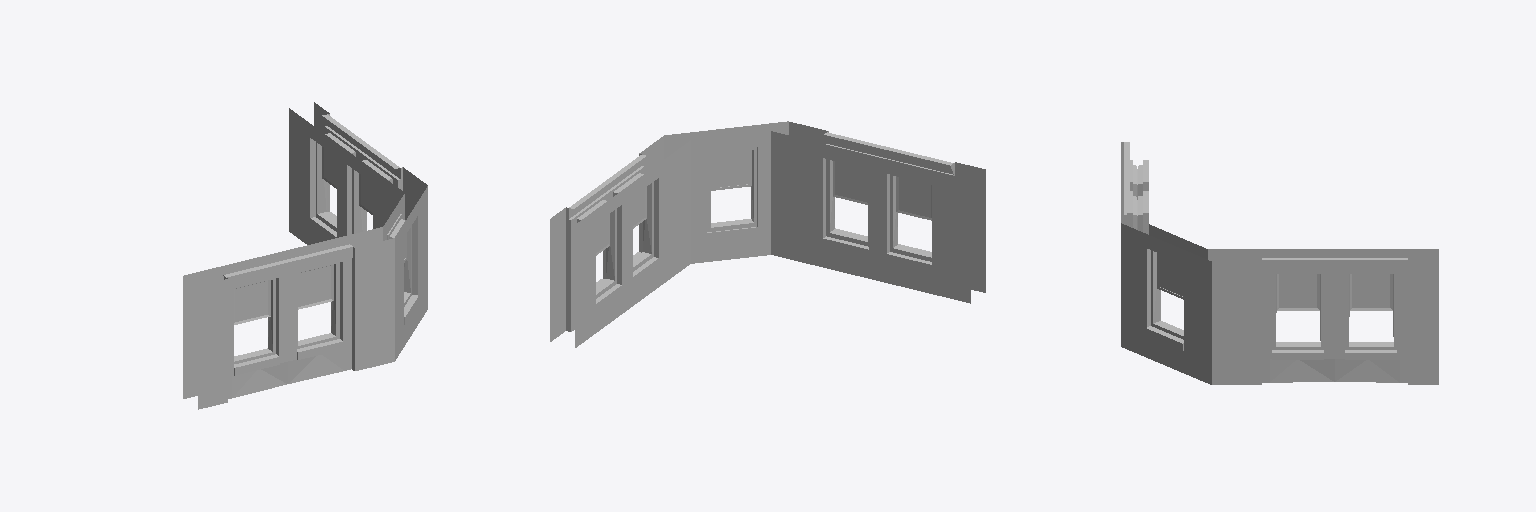
Rendered from Building_Mid_Corner_B_LOD1.obj.
3 views of the same model, side by side, from view 1: azimuth 30°, elevation 25°; view 2: azimuth 150°, elevation 25°; view 3: azimuth 270°, elevation 25° (orthographic).
Visible parts, largest first — view 1: Building_Mid_Corner_B_LOD1 Building_Mid_Corner_B; view 2: Building_Mid_Corner_B_LOD1 Building_Mid_Corner_B; view 3: Building_Mid_Corner_B_LOD1 Building_Mid_Corner_B.
Boxes of the visible parts, x1,y1,x2,y2 form: Building_Mid_Corner_B_LOD1 Building_Mid_Corner_B: [183, 102, 427, 409]; Building_Mid_Corner_B_LOD1 Building_Mid_Corner_B: [550, 121, 985, 347]; Building_Mid_Corner_B_LOD1 Building_Mid_Corner_B: [1121, 142, 1438, 384].
Size of the model in its own units: 700 by 300 by 700.